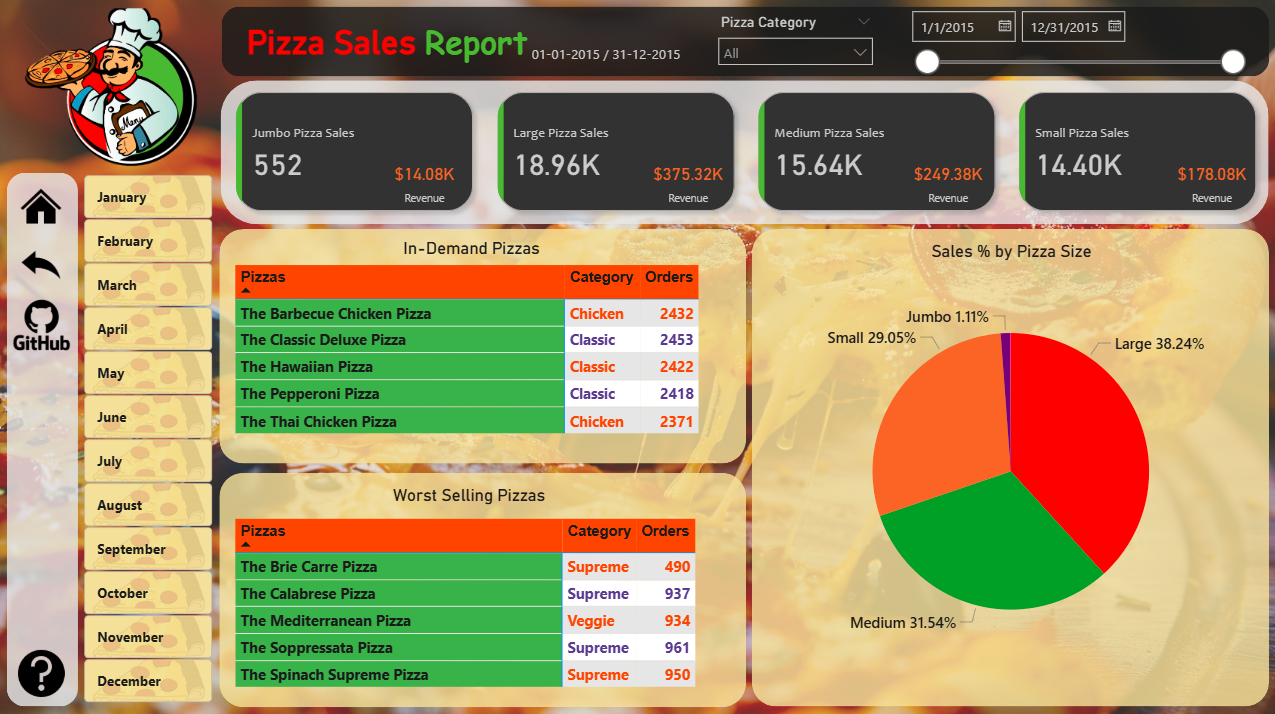

This screenshot's page, from the dashboard's own definition file:
{"tool":"powerbi","page":{"name":"Dashboard 2","canvas":[1280,720],"ordinal":1},"visuals":[{"type":"shape","box":[222.3,81,1048.4,144.1],"z":0},{"type":"shape","box":[220.9,230.5,526.9,234.6],"z":1000},{"type":"shape","box":[8.2,174.3,71.4,533.8],"z":2000},{"type":"image","box":[15,168.8,56.2,76.2],"z":3000},{"type":"image","box":[15,225,56.2,81.2],"z":4000},{"type":"image","box":[7.5,280,71.2,92.5],"z":5000},{"type":"image","box":[5,640,76.2,68.8],"z":6000},{"type":"image","box":[5,0,216.2,175],"z":7000},{"type":"shape","box":[223.8,7.5,1047.5,70],"z":8000},{"type":"textbox","box":[243.8,15,345,56.2],"z":9000},{"type":"textbox","box":[528.8,41.2,195,27.5],"z":10000},{"type":"slicer","fields":{"Values":["public pizza_orders.pizza_category"]},"box":[710,10,175,61.2],"z":11000},{"type":"slicer","fields":{"Values":["public pizza_orders.order_date"]},"box":[900,7.5,356.2,73.8],"z":12000},{"type":"advancedSlicerVisual","fields":{"Values":["public pizza_orders.MonthFull_name"]},"box":[86.4,175.6,133.1,532.4],"z":13000},{"type":"shape","box":[363.6,230.5,219.6,37],"z":14000},{"type":"shape","box":[220.9,473.4,526.9,234.6],"z":14000,"group":"g1"},{"type":"pivotTable","fields":{"Rows":["public pizza_orders.pizza_name"],"Values":["Min(public pizza_orders.pizza_category)","Sum(public pizza_orders.quantity)"]},"box":[231.9,260.7,565.4,201.7],"z":15000},{"type":"shape","box":[753.3,230.5,517.3,477.5],"z":16000,"group":"g2"},{"type":"group","id":"g1","title":"Group 1","box":[220.9,473.4,526.9,234.6],"z":16000},{"type":"pivotTable","fields":{"Rows":["public pizza_orders.pizza_name"],"Values":["Min(public pizza_orders.pizza_category)","Sum(public pizza_orders.quantity)"]},"box":[231.9,514.6,491.3,182.5],"z":16000,"group":"g1"},{"type":"cardVisual","fields":{"Data":["public pizza_orders.Jumbo_pizza_sales","public pizza_orders.Large_pizza_sales","public pizza_orders.Medium_pizza_sales","public pizza_orders.Small_pizza_sales"]},"box":[220.9,76.8,1056.6,153.7],"z":17000},{"type":"pieChart","fields":{"Y":["Sum(public pizza_orders.quantity)"],"Category":["public pizza_orders.pizza_size"]},"box":[768.4,269.8,488.5,407.6],"z":17000,"group":"g2"},{"type":"shape","box":[360.9,477.5,219.6,37],"z":17000,"group":"g1"},{"type":"group","id":"g2","title":"Group 2","box":[753.3,230.5,517.3,477.5],"z":18000},{"type":"shape","box":[902.9,235.4,219.6,33.1],"z":18000,"group":"g2"},{"type":"card","fields":{"Values":["public pizza_orders.JPS Revenue"]},"box":[366.4,149.6,120.8,65.9],"z":19000},{"type":"card","fields":{"Values":["public pizza_orders.LPS Revenue"]},"box":[629.8,149.6,120.8,65.9],"z":20000},{"type":"card","fields":{"Values":["public pizza_orders.MPS Revenue"]},"box":[890.6,149.6,120.8,65.9],"z":21000},{"type":"card","fields":{"Values":["public pizza_orders.SPS Revenue"]},"box":[1154,149.6,120.8,65.9],"z":22000}]}

Visuals, with their boxes on the page's 1280x720 design canvas (x1, y1, x2, y2). These are canvas units, not pixel positions in the 1275x714 screenshot, which may show the page scaled, cropped or inside an application window:
shape: detection(222, 81, 1271, 225)
shape: detection(221, 230, 748, 465)
shape: detection(8, 174, 80, 708)
image: detection(15, 169, 71, 245)
image: detection(15, 225, 71, 306)
image: detection(8, 280, 79, 372)
image: detection(5, 640, 81, 709)
image: detection(5, 0, 221, 175)
shape: detection(224, 8, 1271, 78)
textbox: detection(244, 15, 589, 71)
textbox: detection(529, 41, 724, 69)
slicer - public pizza_orders.pizza_category: detection(710, 10, 885, 71)
slicer - public pizza_orders.order_date: detection(900, 8, 1256, 81)
advancedSlicerVisual - public pizza_orders.MonthFull_name: detection(86, 176, 220, 708)
shape: detection(364, 230, 583, 268)
shape: detection(221, 473, 748, 708)
pivotTable - public pizza_orders.pizza_name x Min(public pizza_orders.pizza_category): detection(232, 261, 797, 462)
shape: detection(753, 230, 1271, 708)
"Group 1" group: detection(221, 473, 748, 708)
pivotTable - public pizza_orders.pizza_name x Min(public pizza_orders.pizza_category): detection(232, 515, 723, 697)
cardVisual - public pizza_orders.Jumbo_pizza_sales x public pizza_orders.Large_pizza_sales: detection(221, 77, 1278, 230)
pieChart - Sum(public pizza_orders.quantity) x public pizza_orders.pizza_size: detection(768, 270, 1257, 677)
shape: detection(361, 478, 580, 514)
"Group 2" group: detection(753, 230, 1271, 708)
shape: detection(903, 235, 1122, 268)
card - public pizza_orders.JPS Revenue: detection(366, 150, 487, 216)
card - public pizza_orders.LPS Revenue: detection(630, 150, 751, 216)
card - public pizza_orders.MPS Revenue: detection(891, 150, 1011, 216)
card - public pizza_orders.SPS Revenue: detection(1154, 150, 1275, 216)
